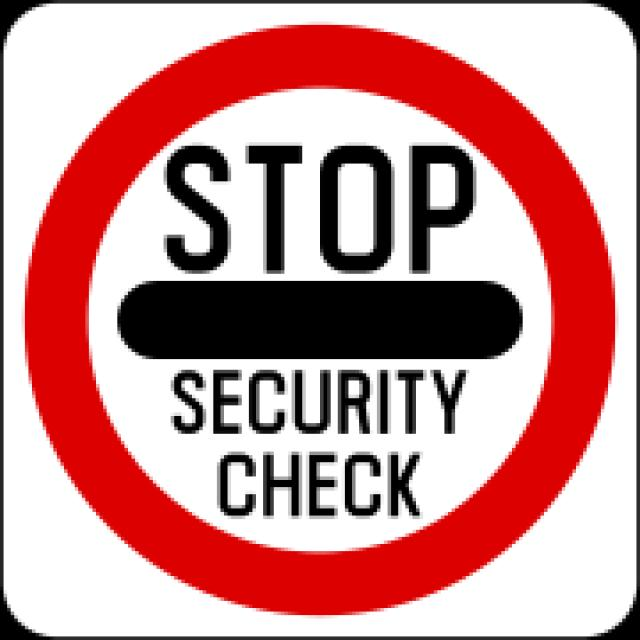Traffic sign: (51, 53, 605, 588)
